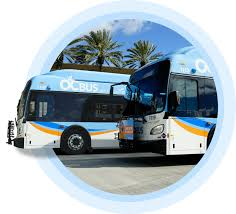bus: (112, 52, 224, 160), (7, 68, 138, 152)
